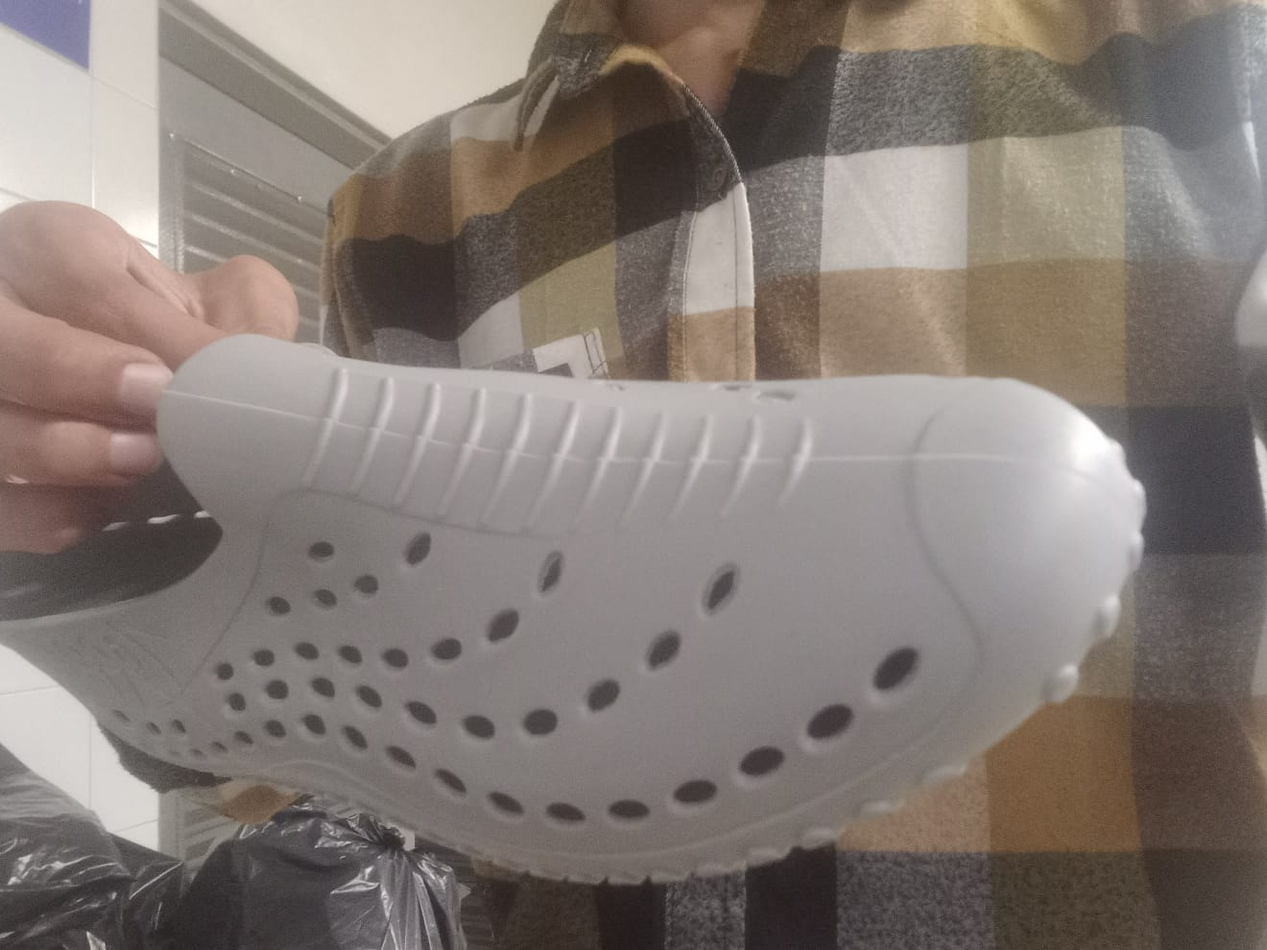Ordinario: (0, 334, 1148, 888)
